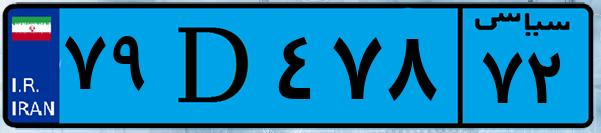2: (525, 38, 570, 115)
4: (270, 28, 330, 110)
7: (330, 28, 385, 110), (57, 26, 110, 100), (475, 38, 525, 113)
8: (385, 28, 445, 110)
9: (110, 28, 158, 98)
D: (158, 12, 270, 120)
